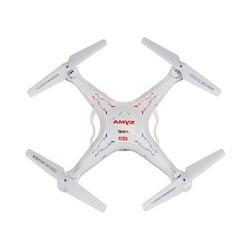drone: (23, 37, 227, 216)
